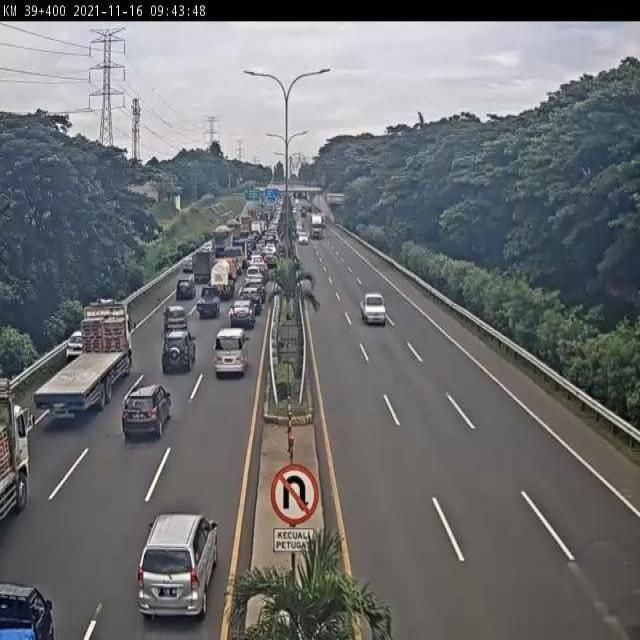car: (139, 511, 216, 618), (0, 580, 54, 640), (121, 384, 172, 443), (156, 336, 194, 383), (214, 327, 249, 377), (165, 310, 193, 346), (360, 293, 386, 327), (195, 288, 219, 321), (230, 300, 254, 333), (240, 287, 262, 313), (174, 279, 196, 304), (248, 277, 268, 299), (67, 333, 83, 359), (246, 265, 264, 284), (177, 260, 193, 276), (248, 254, 264, 266), (299, 235, 306, 244)
small truck: (225, 246, 244, 274)
truck-l-: (35, 304, 136, 421), (210, 226, 232, 262), (308, 210, 320, 233)
truck-m-: (187, 248, 214, 287), (211, 260, 234, 300)
